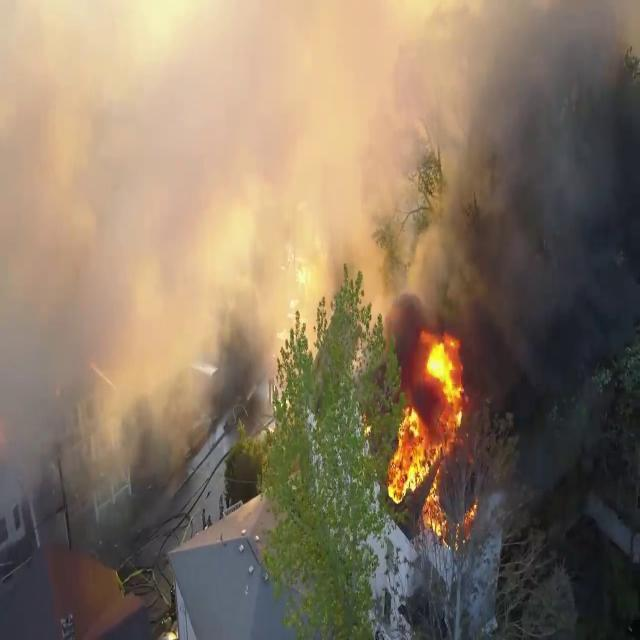Fire: (384, 334, 476, 536)
Smoke: (0, 0, 322, 523), (359, 0, 640, 388)
